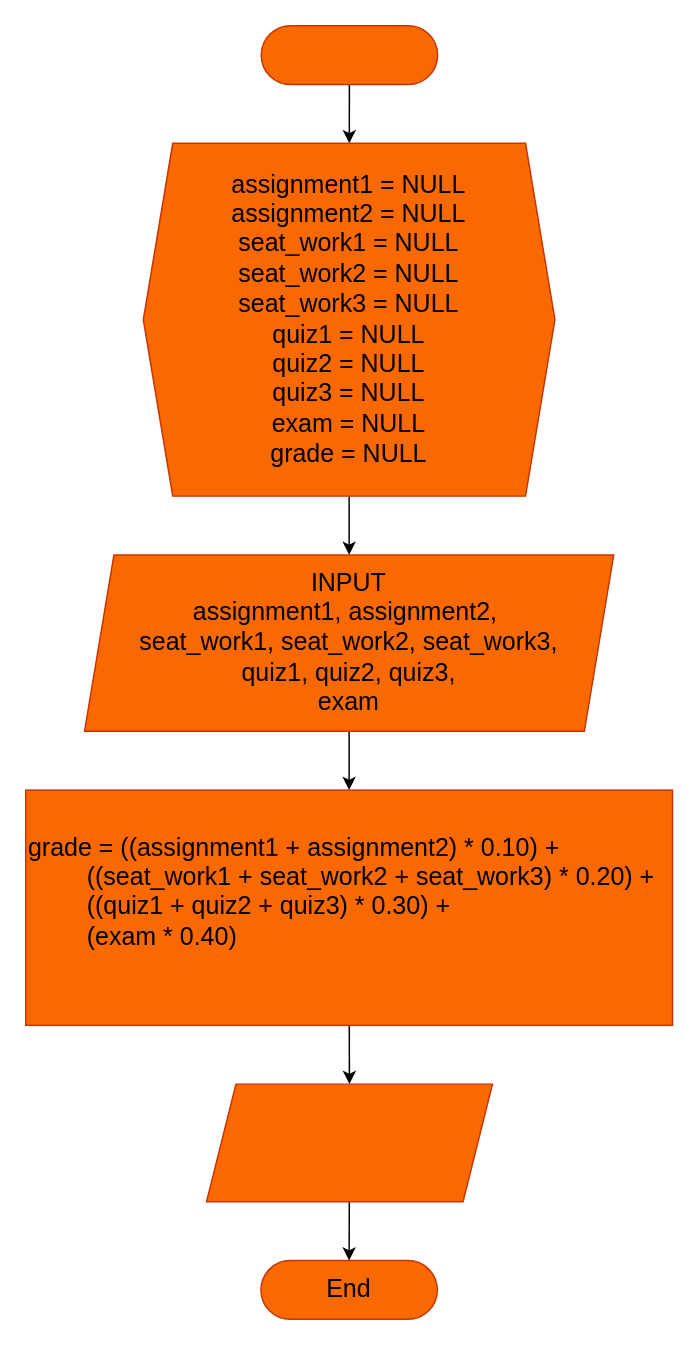
Some shapes in this 698 by 1345 pixel diagram are drawn without their labels. Here are the shapes that lost their labels. From the top down, the box of each, then its label:
(260, 24, 438, 85): Start
(205, 1083, 492, 1202): PRINT grade
